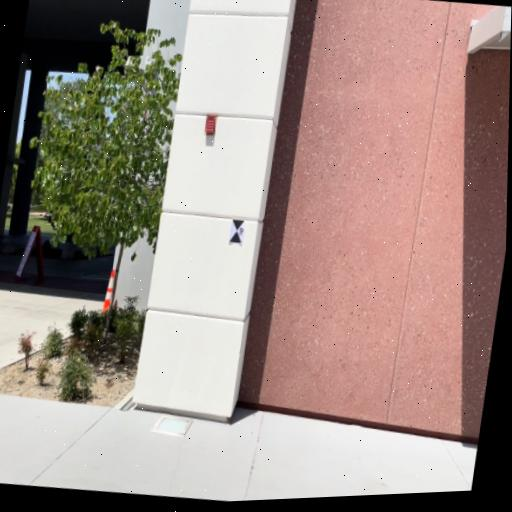target9: (228, 219, 245, 244)
